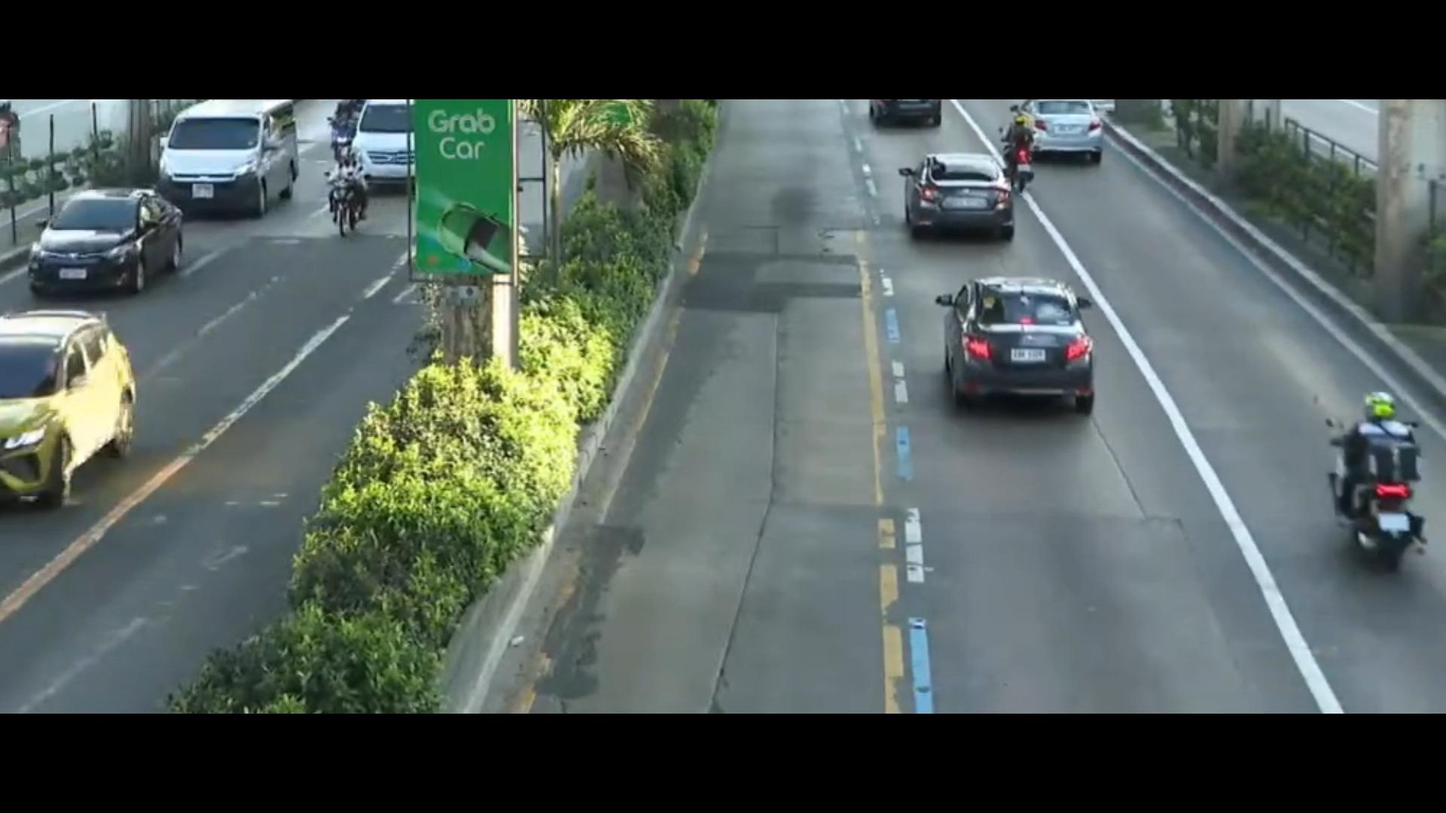Motorcycle: (1326, 373, 1423, 600), (321, 134, 377, 247), (1003, 104, 1053, 208)
SUV: (0, 303, 149, 498)
Sedan: (942, 271, 1102, 427), (18, 177, 189, 295), (887, 145, 1024, 248)
Van: (163, 96, 305, 223), (341, 96, 428, 186)
